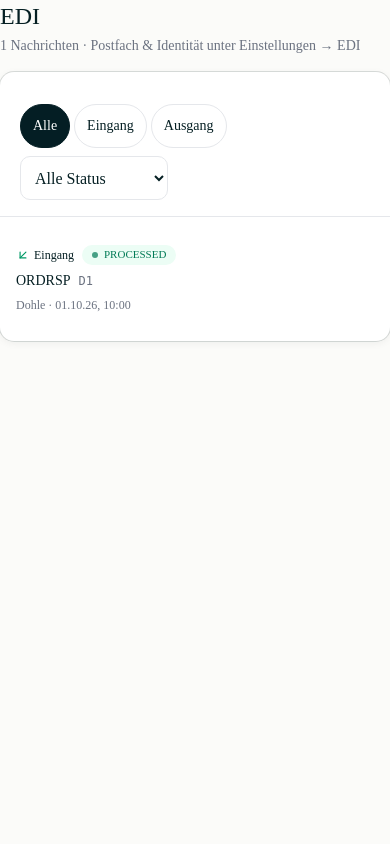
Test case: EdiView mobil/tablet › Detail ist mobil ein Bottom-Sheet ohne max-h-Override, Aktionen im Footer (F-M30/32)
This screenshot has width=390, height=844.
Click the button "ORDRSP": (54, 255) [0, 233, 389, 325]
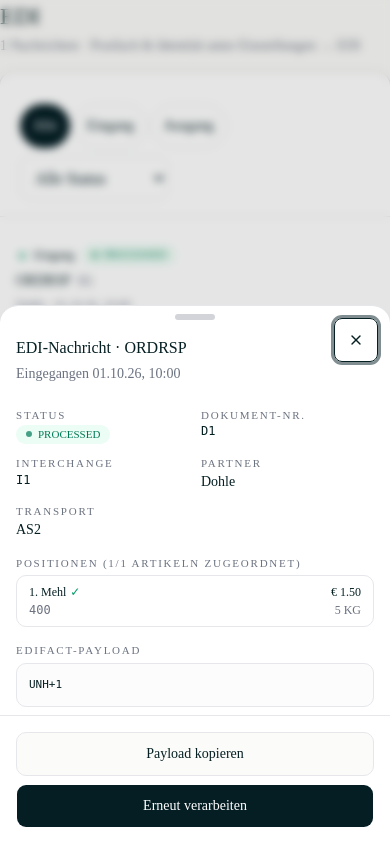
Now the text "UNH+1" is shown, box [16, 663, 374, 707]
